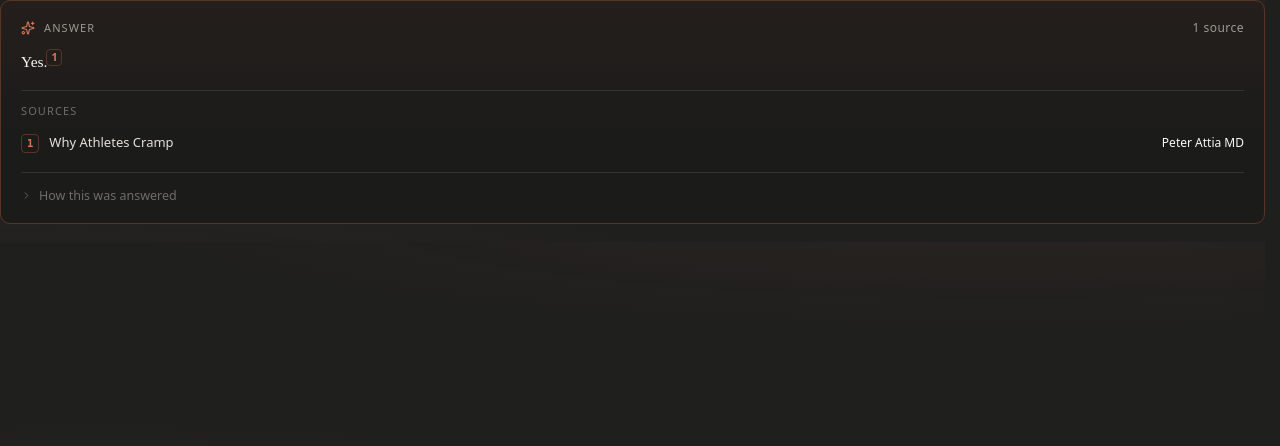
Test case: AnswerPanel trace footer › states the split without judging it, when local work dominates
Click the button "How this was answered" at (99, 196), box [21,187,177,205]
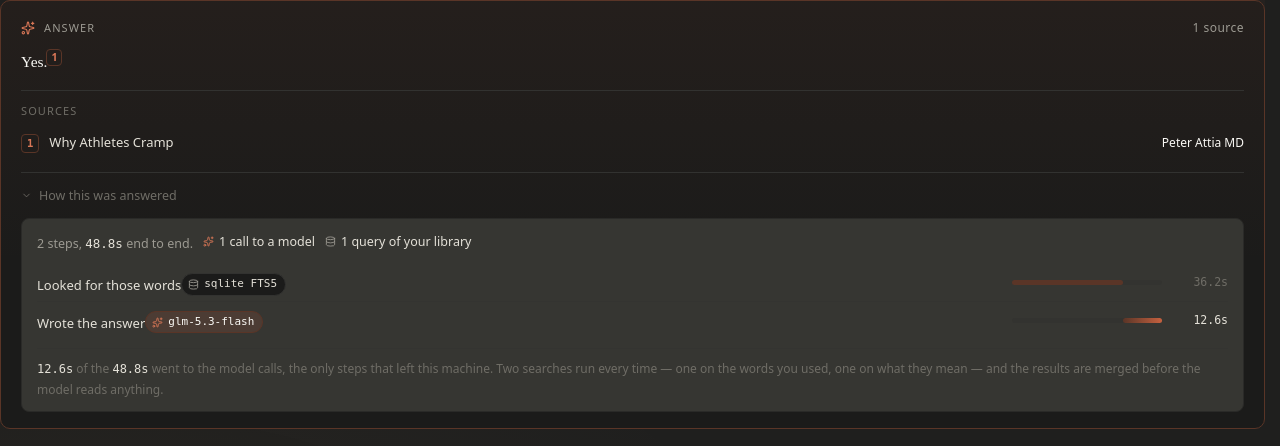
Expected: the element with class "trace-foot" shows "12.6s", [37,362,73,376]
Expected: the element with class "trace-foot" shows "48.8s", [112,362,148,376]
